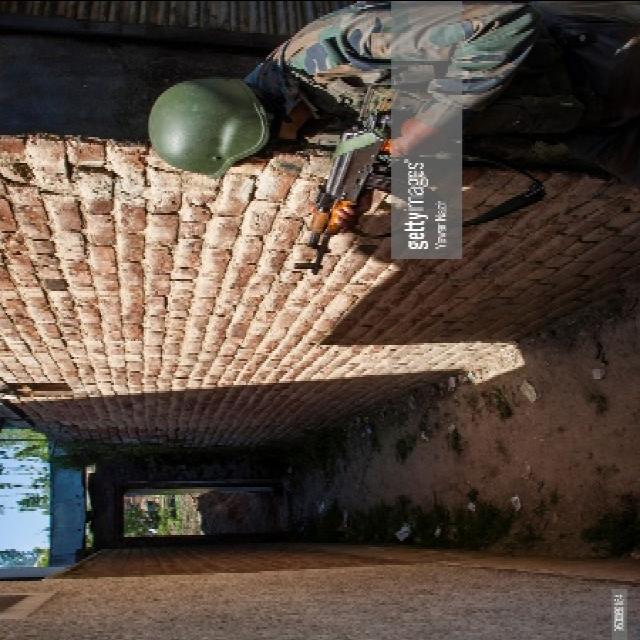rifle: (280, 77, 450, 297)
